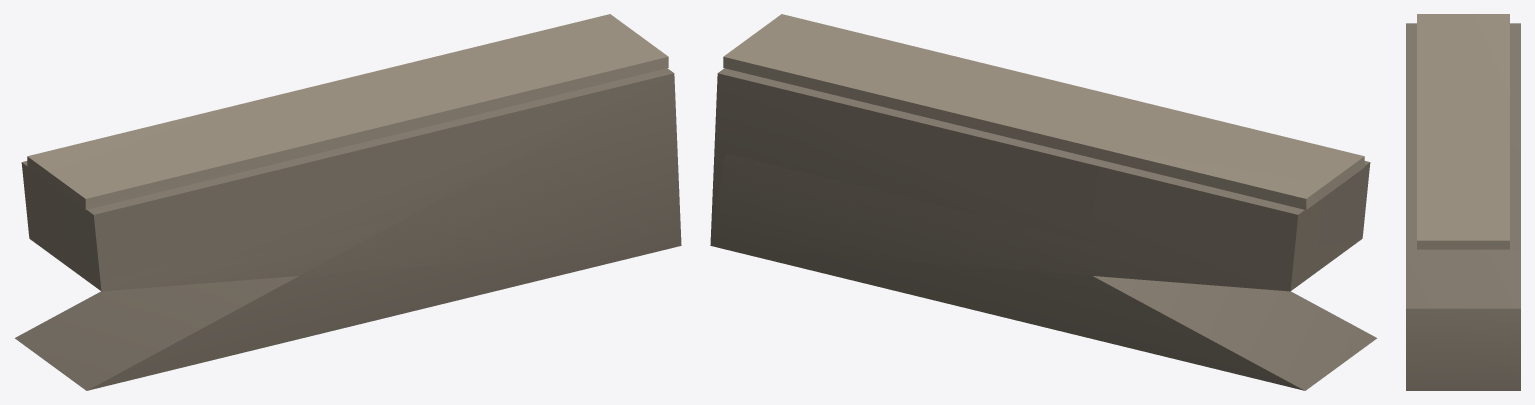
Rendered from wari_pukara_wall_lod1.glb.
3 views of the same model, side by side, from view 1: azimuth 30°, elevation 25°; view 2: azimuth 150°, elevation 25°; view 3: azimuth 270°, elevation 25° (orthographic). The views are drawn at different scales.
Visible parts, largest first — view 1: GEO-Arch_wari_pukara_wall_LOD1; view 2: GEO-Arch_wari_pukara_wall_LOD1; view 3: GEO-Arch_wari_pukara_wall_LOD1.
Part boxes in pixels (x1=…): GEO-Arch_wari_pukara_wall_LOD1: x1=15, y1=14, x2=681, y2=390; GEO-Arch_wari_pukara_wall_LOD1: x1=710, y1=14, x2=1376, y2=390; GEO-Arch_wari_pukara_wall_LOD1: x1=1406, y1=14, x2=1520, y2=390.
Bounding box in the file's own units: 10 × 2.98 × 2.1.
